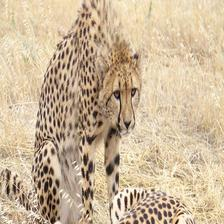Cheetah: (0, 0, 146, 220), (106, 183, 202, 224)
